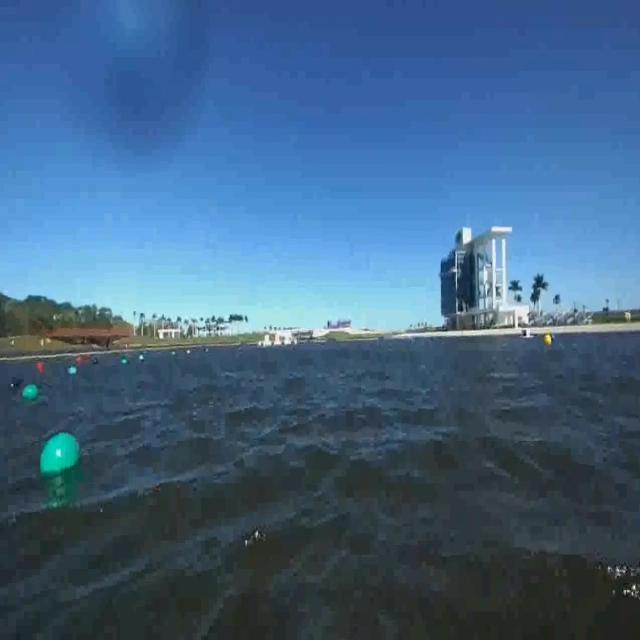black-buoy: (7, 377, 22, 391)
green-buoy: (41, 434, 82, 479), (24, 385, 40, 402)
yellow-buoy: (543, 334, 552, 348)
